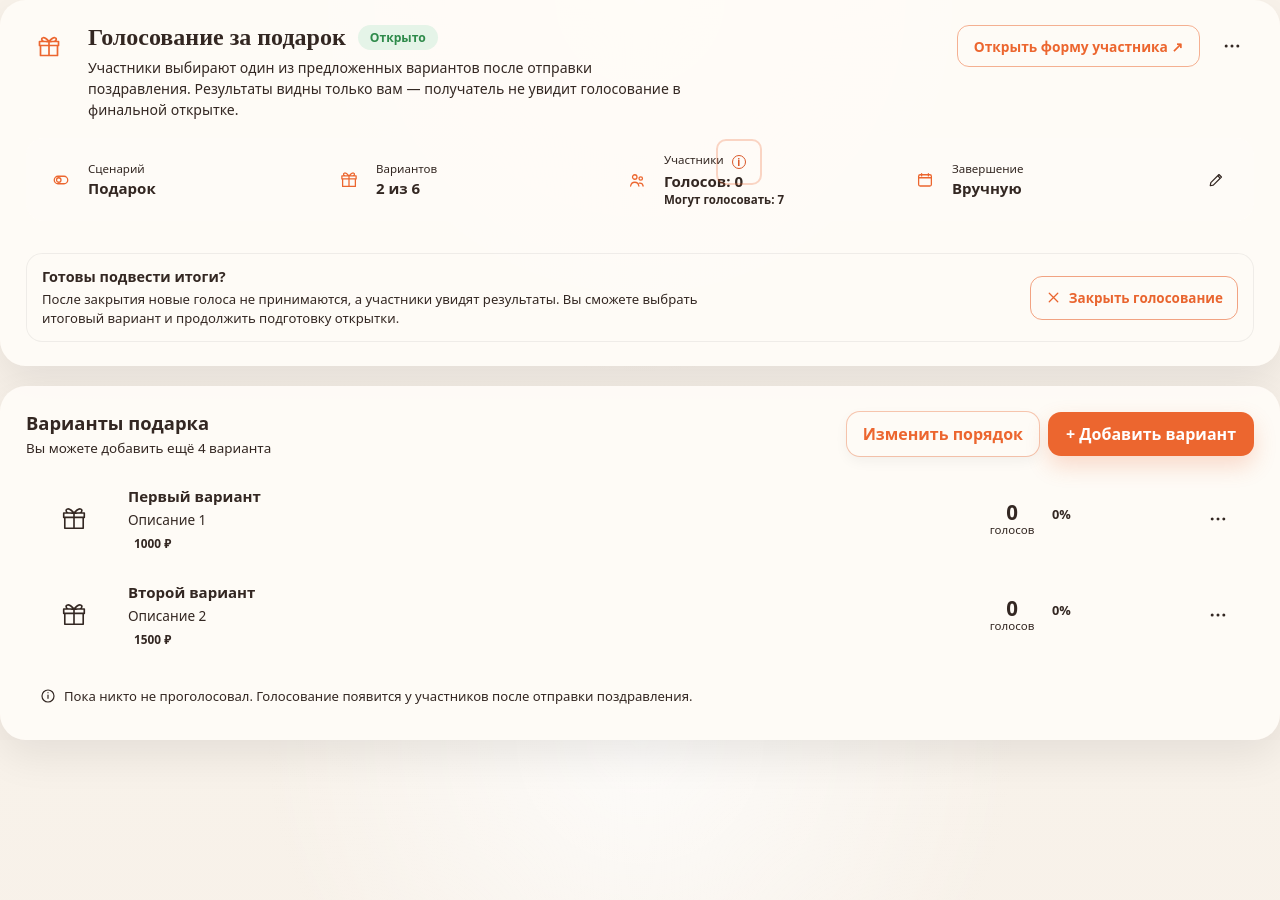
Test: GiftPollSettingsForm active poll › opens a dedicated order editor without reorder controls in the regular list
Click the button "Изменить порядок" at (943,434), box [847,412,1039,456]
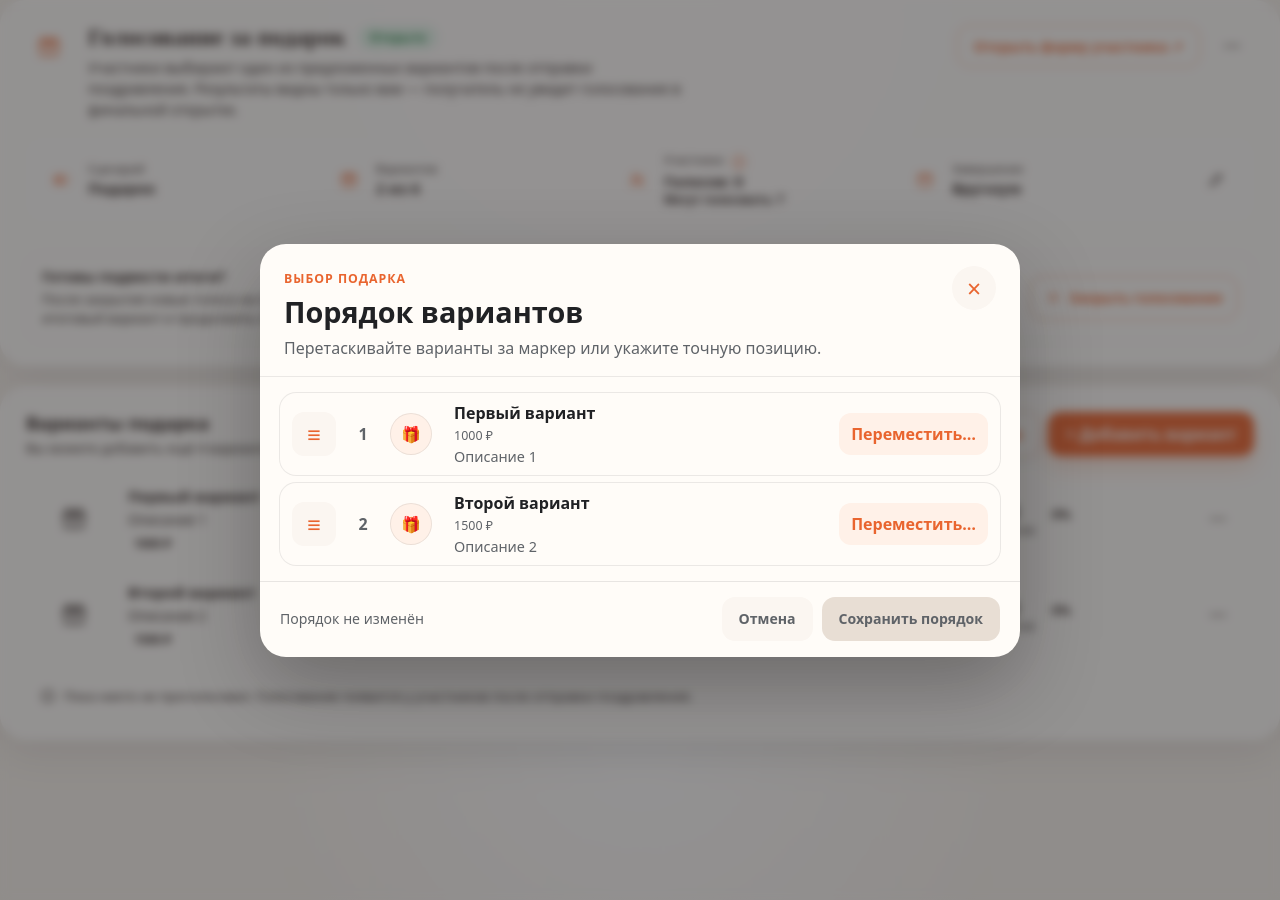
Check: the dialog "Порядок вариантов" is shown, box [260,244,1020,656]
Check: the button "Сохранить порядок" is disabled, box [822,596,1000,640]
